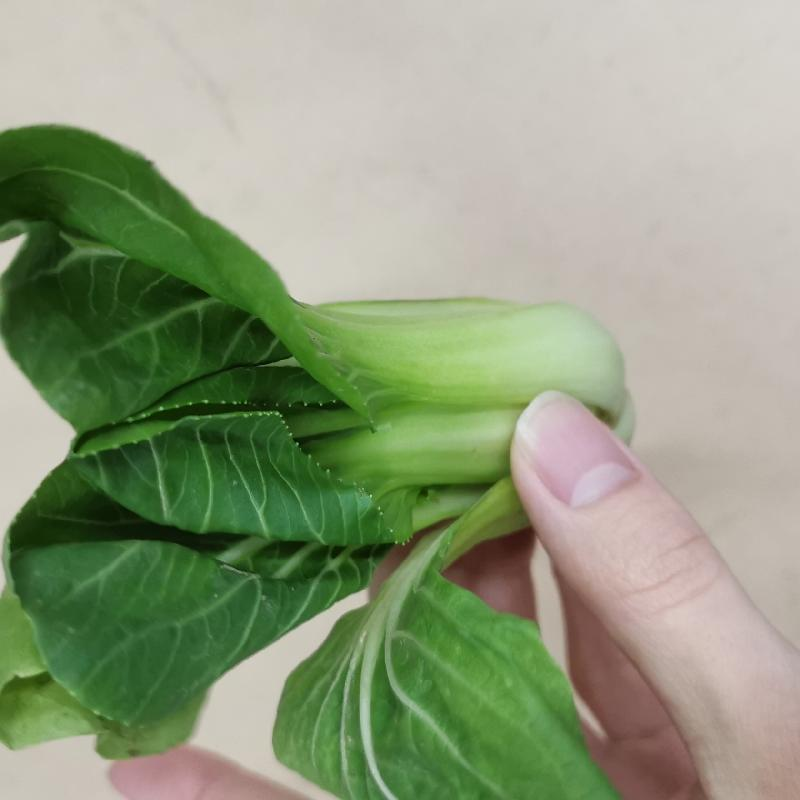green vegatable: (2, 115, 511, 759)
